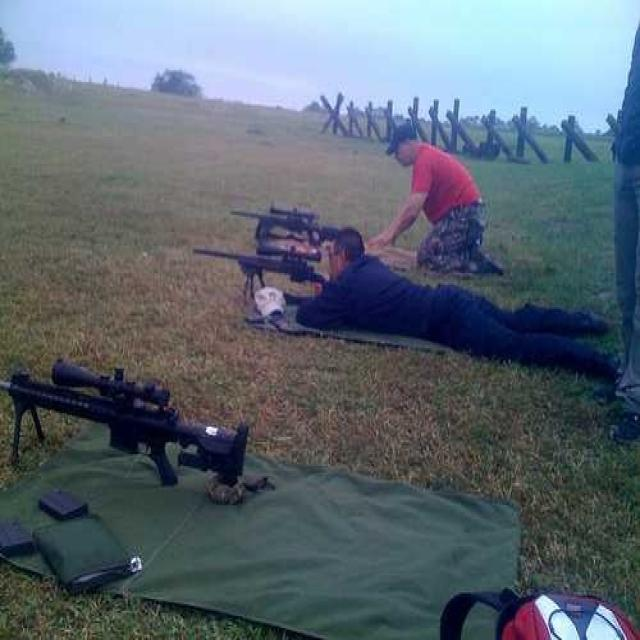heavyweapon: (1, 332, 260, 499), (188, 238, 330, 310)
